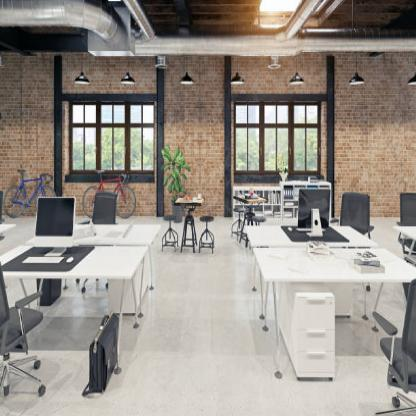Window: (63, 91, 156, 182), (232, 95, 324, 181)
